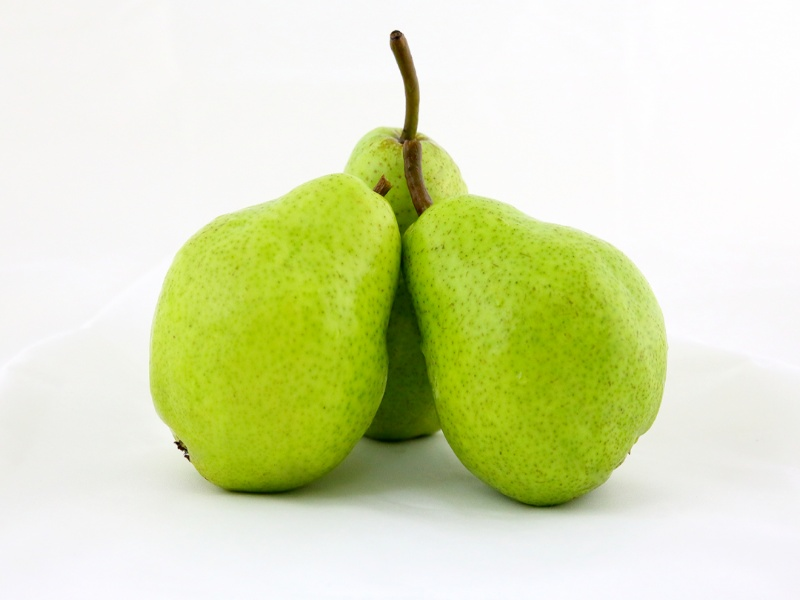Pera: (393, 139, 669, 507), (149, 175, 403, 495), (338, 27, 474, 438)
